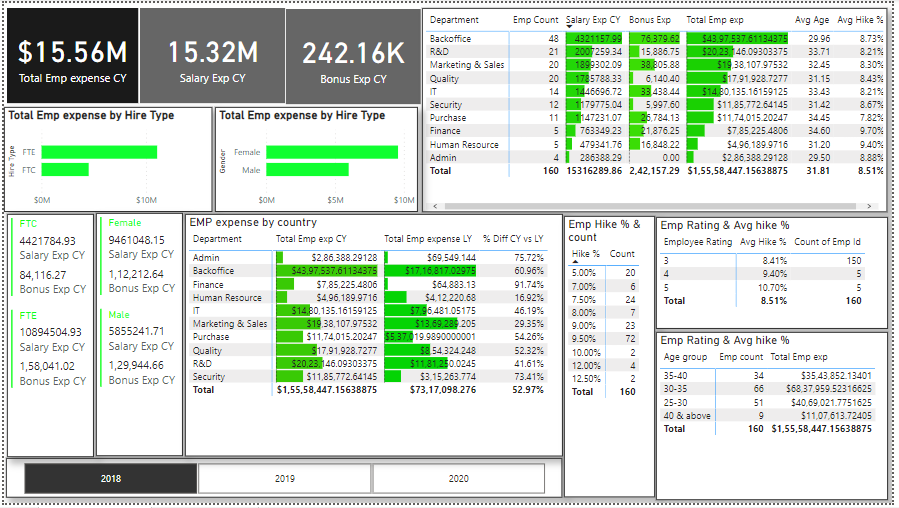

The dashboard page shown, as its layout file describes it:
{"tool":"powerbi","page":{"name":"Emp Expense","canvas":[1280,720],"ordinal":1},"visuals":[{"type":"slicer","fields":{"Values":["Calender.Year"]},"box":[3.4,655.1,801.3,57.1],"z":0},{"type":"card","fields":{"Values":["All Measures.Total Emp expense CY"]},"box":[4.3,7.2,188.6,136.8],"z":1000},{"type":"card","fields":{"Values":["All Measures.Salary Exp CY"]},"box":[195.8,7.2,208.8,136.8],"z":2000},{"type":"card","fields":{"Values":["All Measures.Bonus Exp CY"]},"box":[406.1,8.6,194.4,136.8],"z":3000},{"type":"pivotTable","fields":{"Rows":["Compensation Data.Department"],"Values":["CountNonNull(Compensation Data.Emp Id)","All Measures.Salary Exp CY","All Measures.Bonus Exp CY","All Measures.Total Emp expense CY","Avg(Compensation Data.Age)","Avg(Compensation Data.Hike %)"]},"box":[601.4,6.7,670.2,294],"z":4000},{"type":"barChart","title":"Total Emp expense by Hire Type","fields":{"Category":["Compensation Data.Hire Type"],"Y":["All Measures.Total Emp expense CY"]},"box":[0,149.8,299.5,151.2],"z":5000},{"type":"barChart","title":"Total Emp expense by Hire Type","fields":{"Y":["All Measures.Total Emp expense CY"],"Category":["Compensation Data.Gender"]},"box":[303.8,149.8,292.3,151.2],"z":6000},{"type":"multiRowCard","fields":{"Values":["Compensation Data.Hire Type","All Measures.Salary Exp CY","All Measures.Bonus Exp CY"]},"box":[4.3,303.8,125.3,349.9],"z":7000},{"type":"multiRowCard","fields":{"Values":["Employee Data.Gender","All Measures.Salary Exp CY","All Measures.Bonus Exp CY"]},"box":[132.5,302.4,125.3,349.9],"z":8000},{"type":"pivotTable","title":"EMP expense by country","fields":{"Rows":["Compensation Data.Department"],"Values":["All Measures.Total Emp expense CY","All Measures.Total Emp expense LY","All Measures.% Diff CY vs LY"]},"box":[260.4,304,544.3,349.4],"z":9000},{"type":"pivotTable","title":"Emp Hike % & count","fields":{"Rows":["Compensation Data.Hike %"],"Values":["CountNonNull(Compensation Data.Emp Id)"]},"box":[806.3,307.4,131,404.8],"z":10000},{"type":"pivotTable","title":"Emp Rating & Avg hike %","fields":{"Values":["Avg(Compensation Data.Hike %)","CountNonNull(Compensation Data.Emp Id)"],"Rows":["Compensation Data.Employee Rating"]},"box":[938.9,308.2,334.1,161.3],"z":11000},{"type":"pivotTable","title":"Emp Rating & Emp exp","fields":{"Rows":["Compensation Data.Age group"],"Values":["CountNonNull(Compensation Data.Emp Id)","All Measures.Total Emp expense CY"]},"box":[939,473.7,334.3,241.9],"z":12000}]}

Visuals, with their boxes in screenshot pixels (x1, y1, x2, y2), scaled from the page's 1280x720 canvas onto the 899x508 screenshot:
slicer - Calender.Year: {"x1": 2, "y1": 462, "x2": 565, "y2": 502}
card - All Measures.Total Emp expense CY: {"x1": 3, "y1": 5, "x2": 135, "y2": 102}
card - All Measures.Salary Exp CY: {"x1": 138, "y1": 5, "x2": 284, "y2": 102}
card - All Measures.Bonus Exp CY: {"x1": 285, "y1": 6, "x2": 422, "y2": 103}
pivotTable - Compensation Data.Department x CountNonNull(Compensation Data.Emp Id): {"x1": 422, "y1": 5, "x2": 893, "y2": 212}
"Total Emp expense by Hire Type" barChart: {"x1": 0, "y1": 106, "x2": 210, "y2": 212}
"Total Emp expense by Hire Type" barChart: {"x1": 213, "y1": 106, "x2": 419, "y2": 212}
multiRowCard - Compensation Data.Hire Type x All Measures.Salary Exp CY: {"x1": 3, "y1": 214, "x2": 91, "y2": 461}
multiRowCard - Employee Data.Gender x All Measures.Salary Exp CY: {"x1": 93, "y1": 213, "x2": 181, "y2": 460}
"EMP expense by country" pivotTable: {"x1": 183, "y1": 214, "x2": 565, "y2": 461}
"Emp Hike % & count" pivotTable: {"x1": 566, "y1": 217, "x2": 658, "y2": 502}
"Emp Rating & Avg hike %" pivotTable: {"x1": 659, "y1": 217, "x2": 894, "y2": 331}
"Emp Rating & Emp exp" pivotTable: {"x1": 660, "y1": 334, "x2": 894, "y2": 505}
